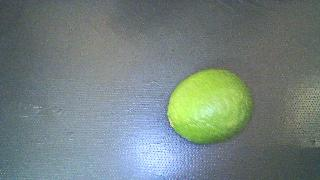EXPORTACION: (167, 69, 253, 144)
